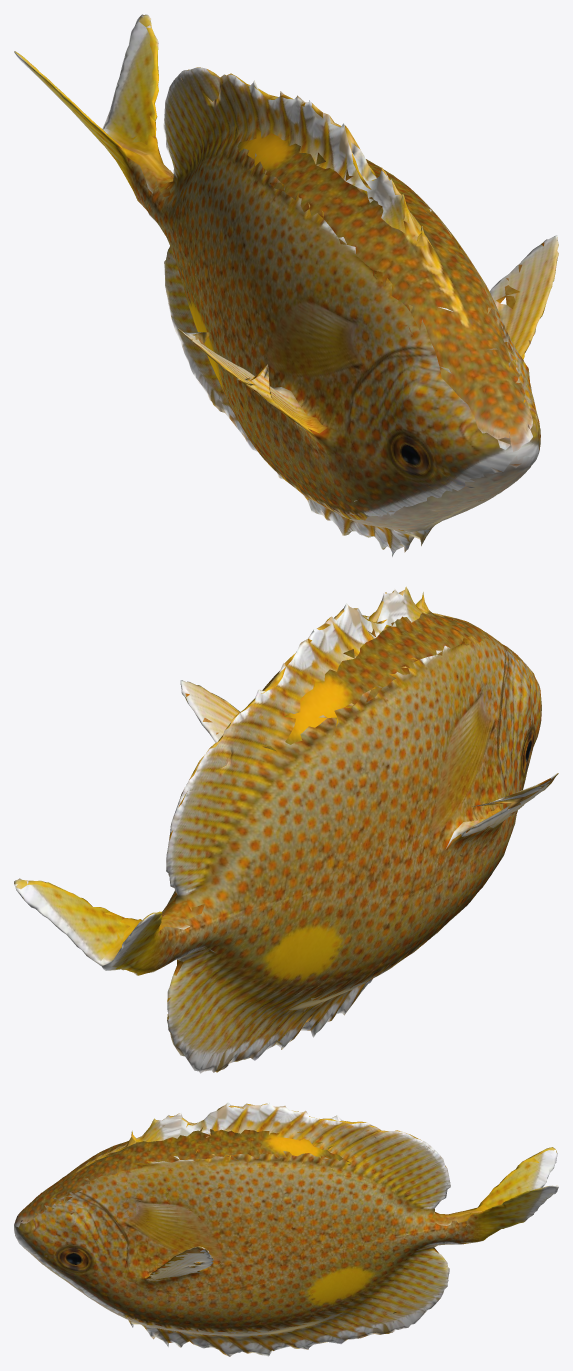
File: fish_rabbit.glb
3 renders of one model, top to bottom at view 1: azimuth 30°, elevation 25°; view 2: azimuth 150°, elevation 25°; view 3: azimuth 270°, elevation 25°, orthographic. The views are drawn at different scales.
Visible parts, largest first — view 1: orient; view 2: orient; view 3: orient.
Boxes of the visible parts, <box> form: orient: <box>14,14,558,556</box>; orient: <box>14,586,558,1073</box>; orient: <box>14,1102,558,1356</box>.
Size of the model in its own units: 0.9576 by 0.9982 by 1.93.
Materials: 1 (1 with a texture image).
